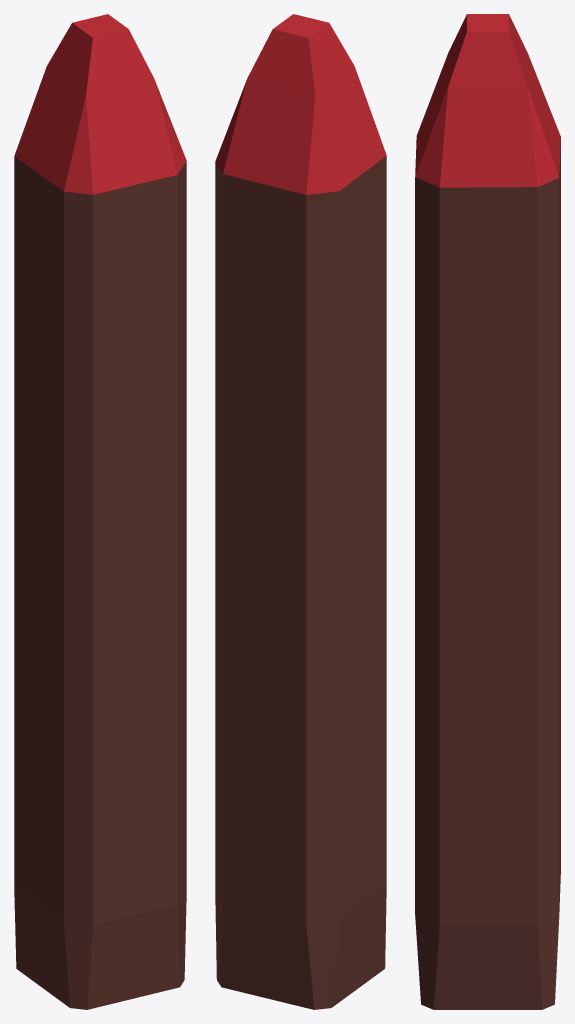
File: pillar_thin.fbx
The picture shows the model from 3 angles, left to right: view 1: azimuth 30°, elevation 25°; view 2: azimuth 150°, elevation 25°; view 3: azimuth 270°, elevation 25°; orthographic projection.
Visible parts, largest first — view 1: Cube.007; view 2: Cube.007; view 3: Cube.007.
Boxes of the visible parts, left/top/right/bottom form: Cube.007: left=14, top=14, right=186, bottom=1009; Cube.007: left=215, top=14, right=386, bottom=1009; Cube.007: left=415, top=14, right=560, bottom=1009.
Size of the model in its own units: 34.54 by 251 by 34.54.
